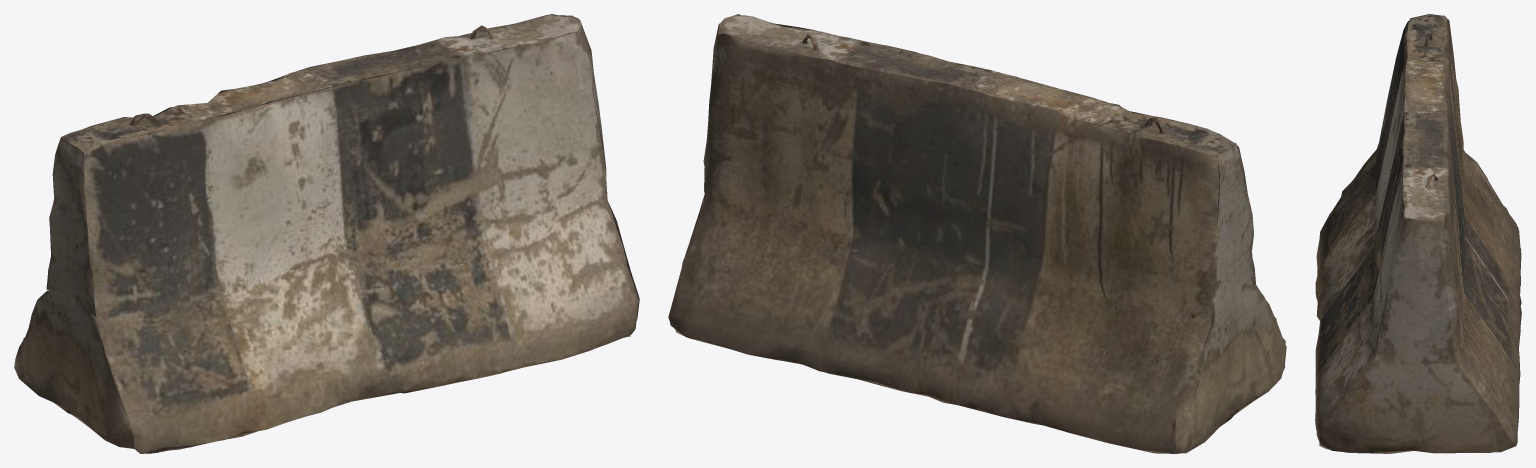
Rendered from concrete_road_barrier.glb.
The picture shows the model from 3 angles, left to right: view 1: azimuth 30°, elevation 25°; view 2: azimuth 150°, elevation 25°; view 3: azimuth 270°, elevation 25°; orthographic projection. The views are drawn at different scales.
Parts seen in each view (by area): view 1: concrete_road_barrier; view 2: concrete_road_barrier; view 3: concrete_road_barrier.
Boxes of the visible parts, <box> form: concrete_road_barrier: <box>14,14,639,453</box>; concrete_road_barrier: <box>668,14,1286,453</box>; concrete_road_barrier: <box>1315,14,1521,453</box>.
Size of the model in its own units: 1.54 by 0.8323 by 0.6344.
1 material, 1 textured.
